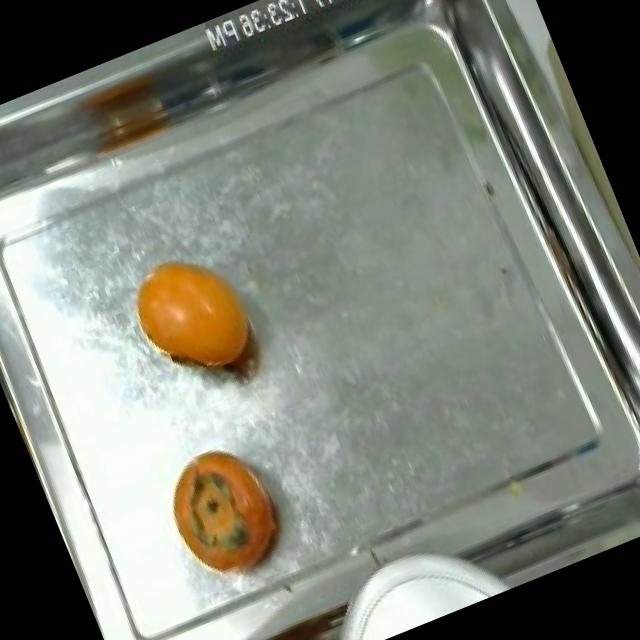Fruit: (110, 223, 278, 404), (144, 422, 307, 604)
